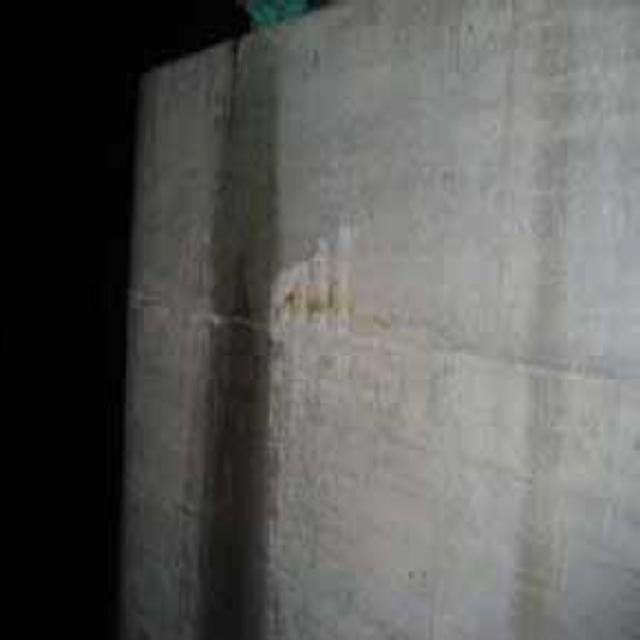leakage: (203, 39, 273, 638)
